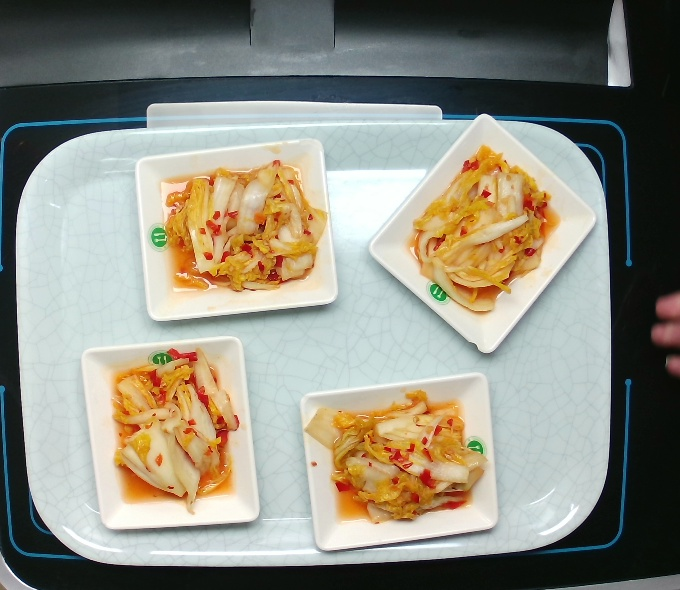wcq-SuanLaBaiCai: (412, 146, 559, 309), (156, 161, 329, 293), (319, 392, 484, 526), (107, 350, 240, 508)
